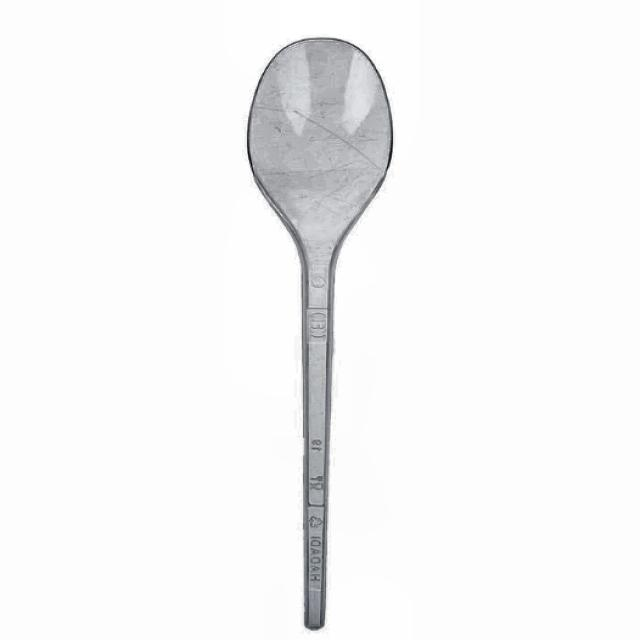plastic utensil: (243, 37, 396, 634)
